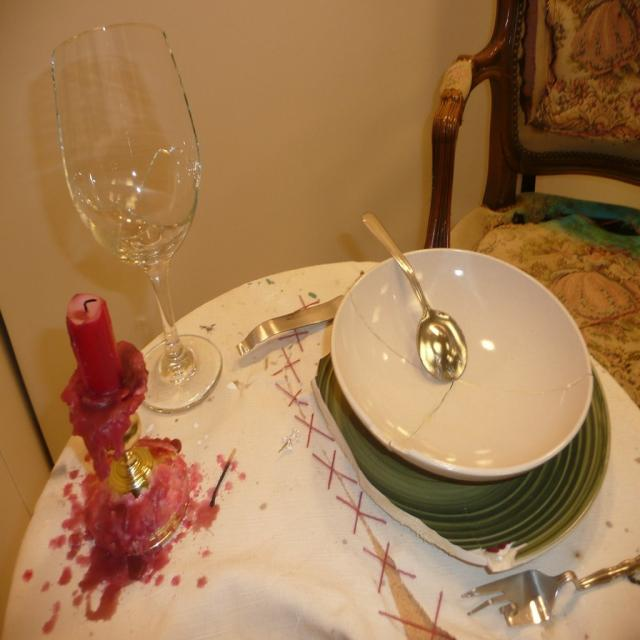Glass: (40, 18, 214, 371)
Metal: (346, 197, 489, 387), (236, 300, 321, 363)
